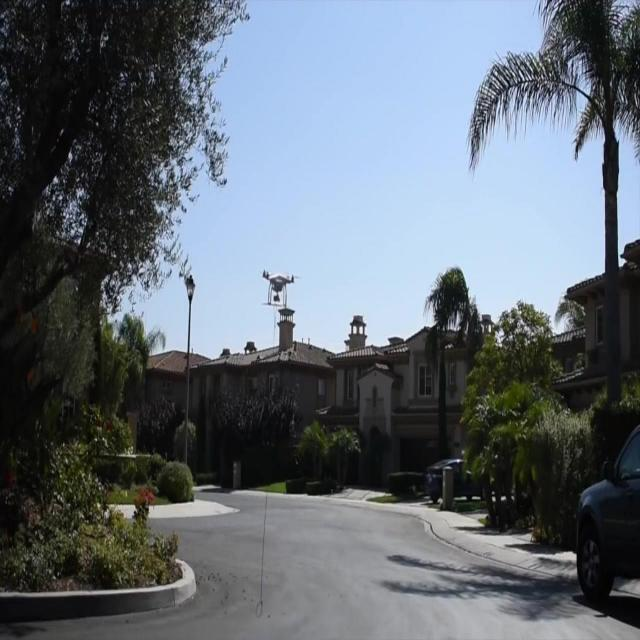UAV: (260, 270, 300, 308)
